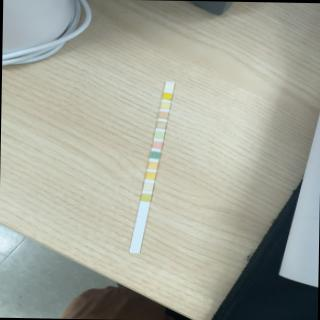mark: (154, 130, 164, 138), (158, 111, 168, 118), (152, 141, 162, 148), (148, 162, 158, 169), (146, 172, 154, 180), (144, 183, 152, 191), (162, 92, 171, 99), (150, 151, 159, 158), (160, 102, 170, 108), (157, 121, 165, 128), (142, 194, 150, 201), (164, 84, 173, 90)
